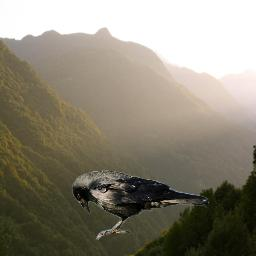Crow: (72, 170, 210, 240)
